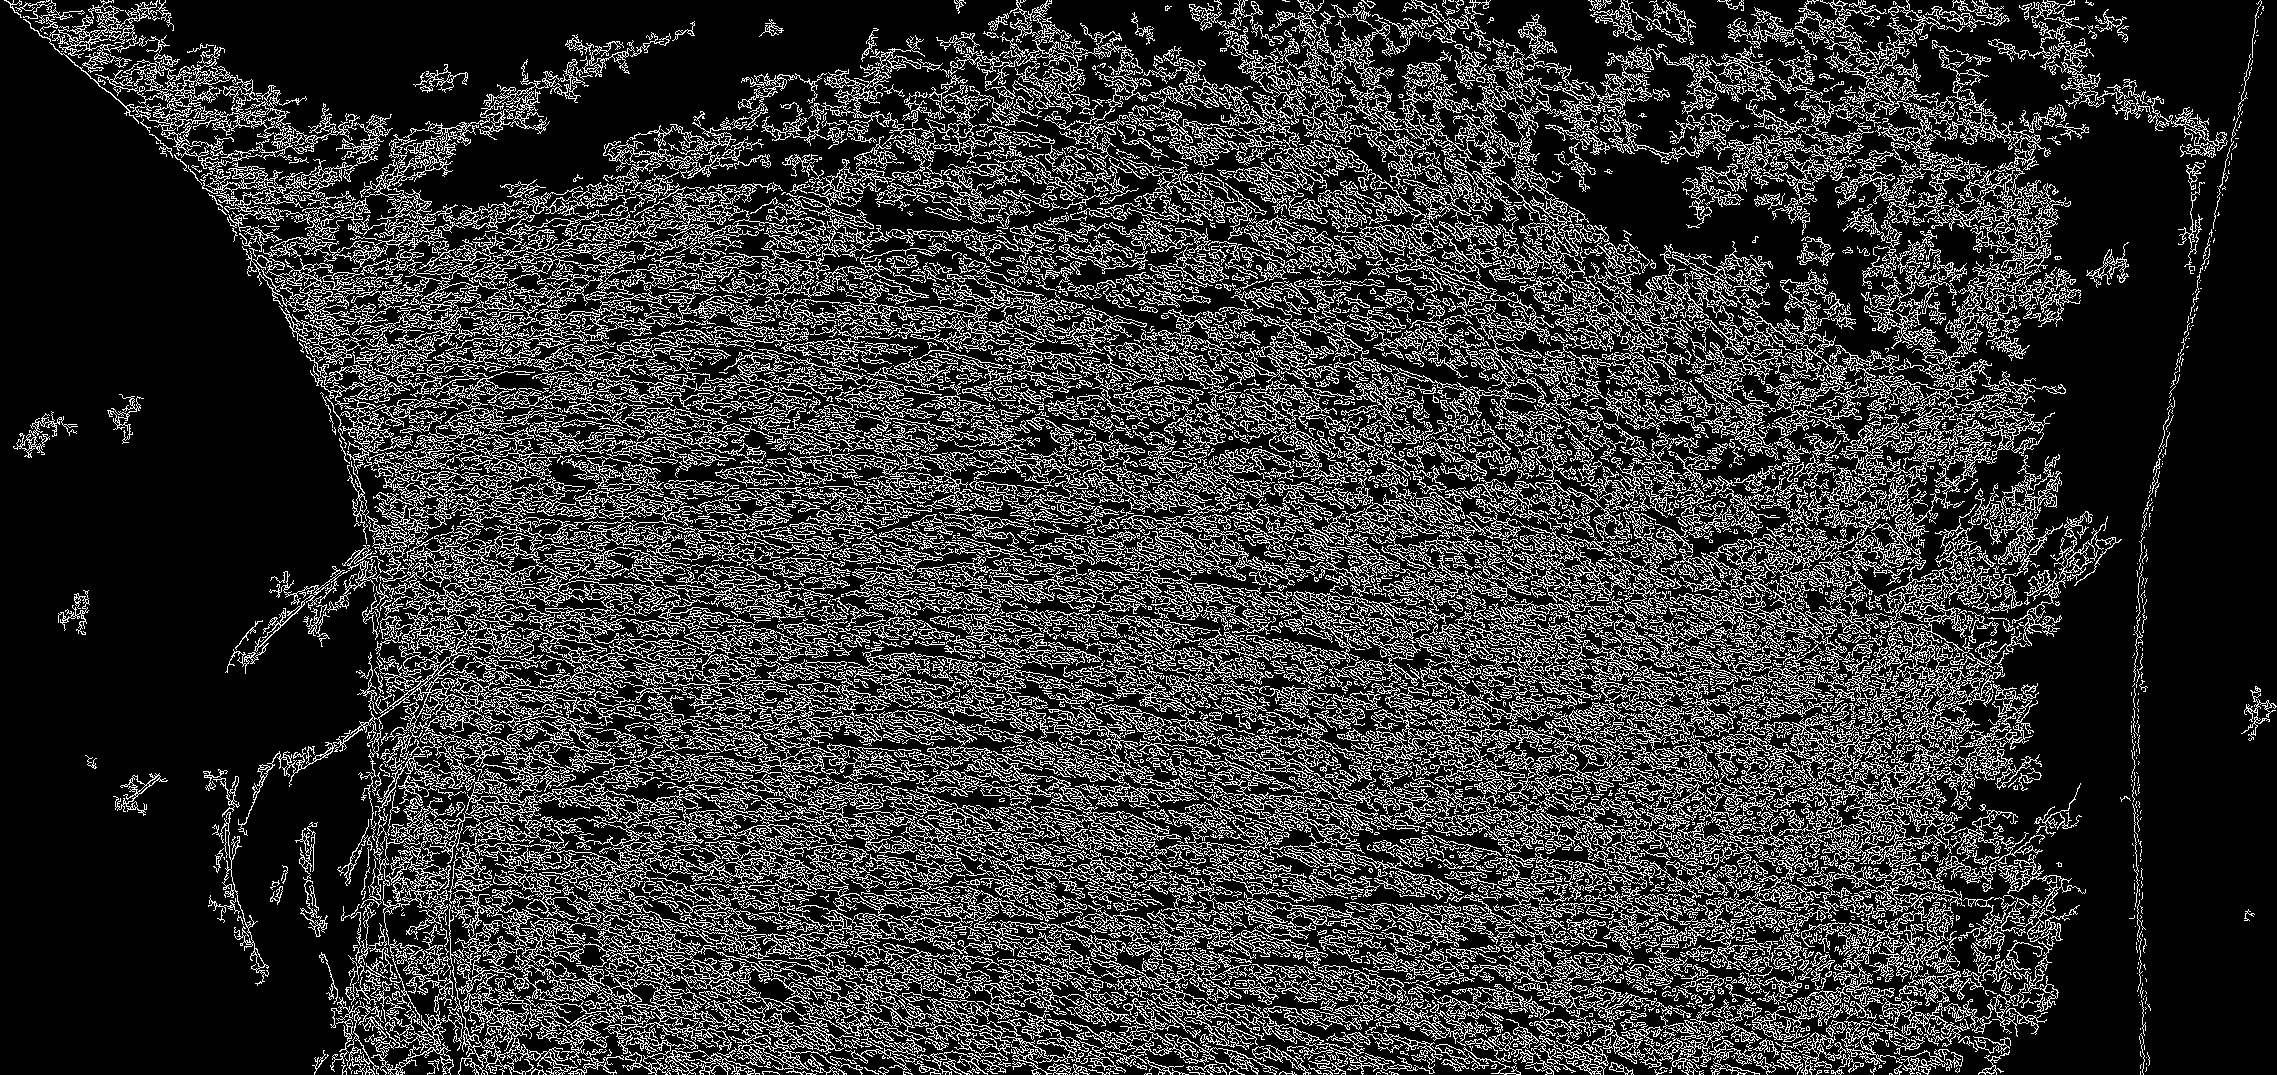singlecore: (1340, 660, 1345, 662), (1356, 664, 1361, 667), (1353, 517, 1356, 520), (1242, 264, 1245, 267), (1304, 277, 1307, 280), (1260, 487, 1263, 490), (1284, 545, 1287, 548), (1249, 641, 1252, 644), (836, 542, 839, 545), (831, 600, 834, 603), (823, 853, 826, 856), (1486, 812, 1488, 815), (1503, 811, 1506, 814), (1477, 950, 1480, 953)
